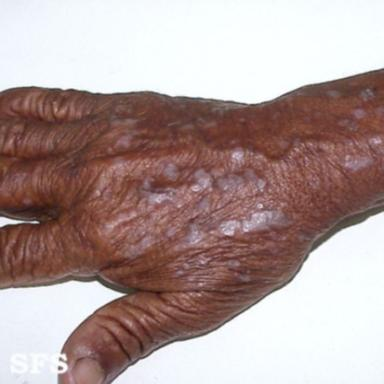lichen: (218, 210, 291, 236), (139, 179, 176, 204), (104, 209, 138, 233), (1, 169, 28, 196), (128, 235, 155, 257), (190, 169, 212, 192), (114, 130, 141, 148), (344, 155, 373, 171), (183, 223, 204, 245), (217, 174, 244, 191), (245, 169, 266, 189), (163, 163, 179, 180), (337, 119, 359, 131), (110, 118, 138, 125), (360, 89, 375, 101), (232, 147, 244, 161), (211, 167, 225, 179), (298, 233, 315, 242), (351, 109, 366, 119), (197, 198, 210, 209), (327, 90, 341, 98), (103, 188, 112, 199), (239, 275, 250, 283), (115, 156, 123, 167), (228, 259, 240, 266), (165, 230, 174, 238), (23, 199, 33, 205), (175, 270, 185, 275), (183, 263, 190, 269), (257, 203, 263, 209)
